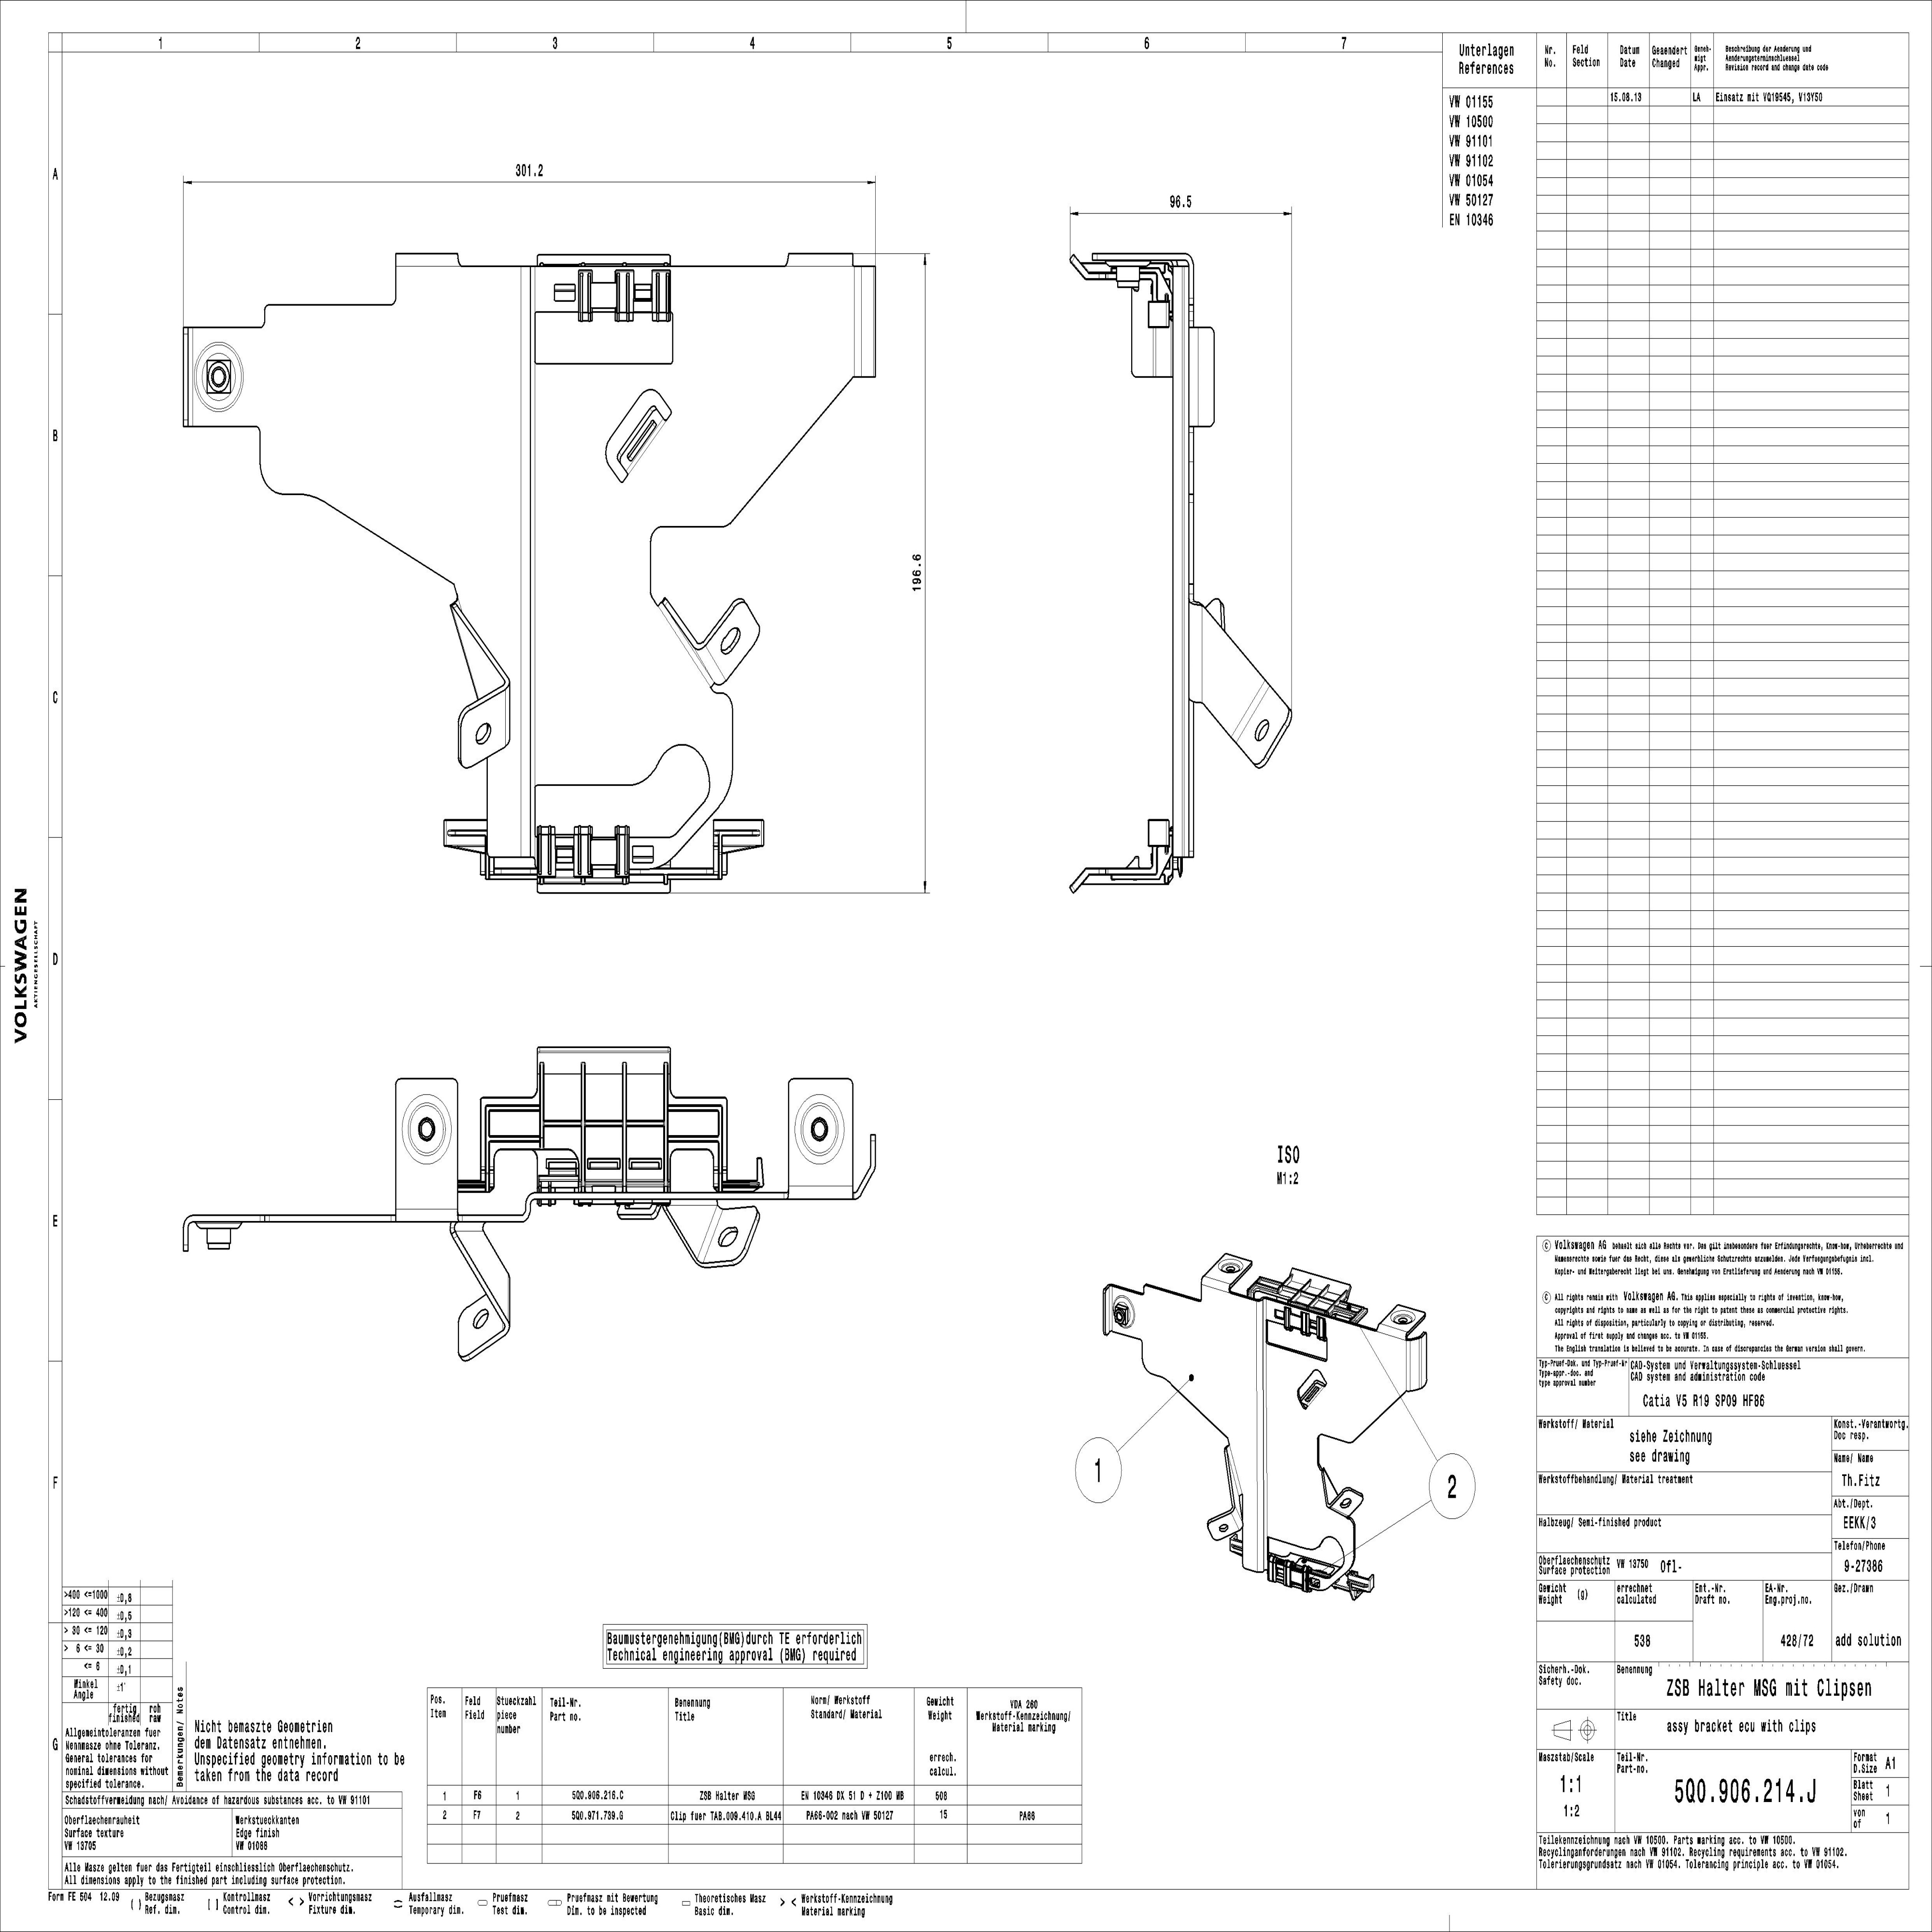BendingEdge: (1223, 676, 1277, 750)
InnerContour: (715, 623, 747, 658), (1249, 715, 1276, 745), (717, 1226, 740, 1251), (476, 722, 494, 745), (472, 1309, 490, 1330), (1338, 1495, 1353, 1511), (1219, 1523, 1228, 1532)
ThroughHole: (400, 1092, 455, 1168), (794, 1093, 847, 1166), (1215, 1253, 1246, 1279), (1389, 1306, 1417, 1329)
